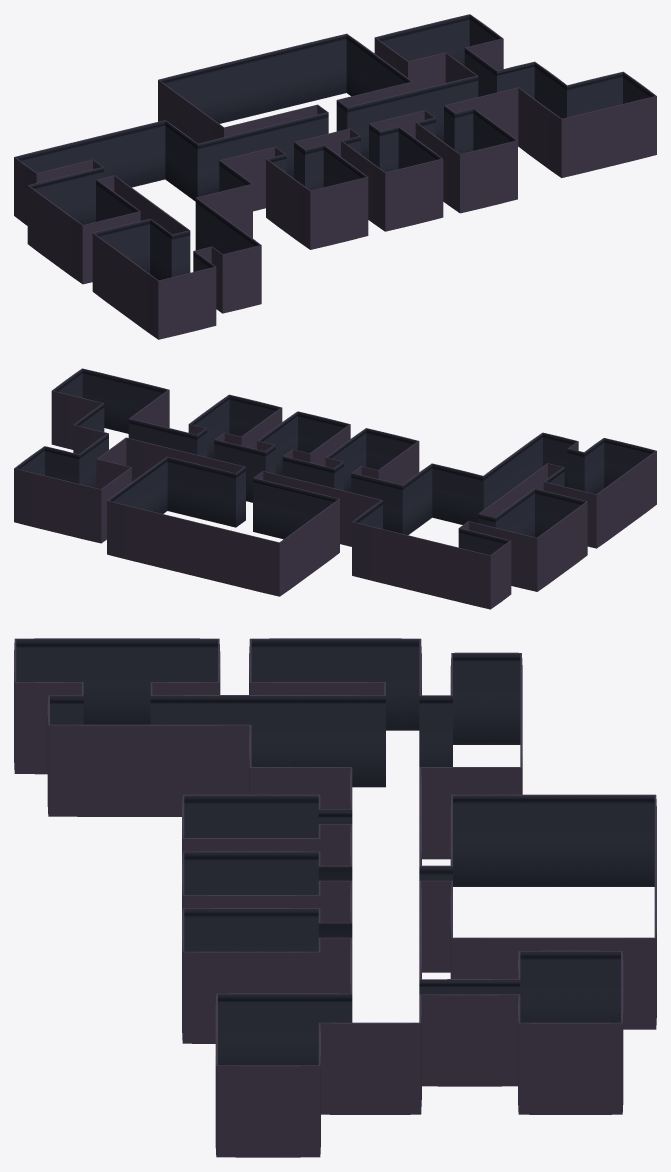
The model's file is warehouse wall.fbx.
The picture shows the model from 3 angles, top to bottom: view 1: azimuth 30°, elevation 25°; view 2: azimuth 150°, elevation 25°; view 3: azimuth 270°, elevation 25°; orthographic projection. The views are drawn at different scales.
Visible parts, largest first — view 1: wall; view 2: wall; view 3: wall.
Part boxes in pixels (left/top/right/bottom): wall: left=14, top=14, right=656, bottom=339; wall: left=14, top=368, right=656, bottom=609; wall: left=14, top=638, right=656, bottom=1157.
Size of the model in its own units: 3014 by 300 by 1914.
1 material, 1 textured.
